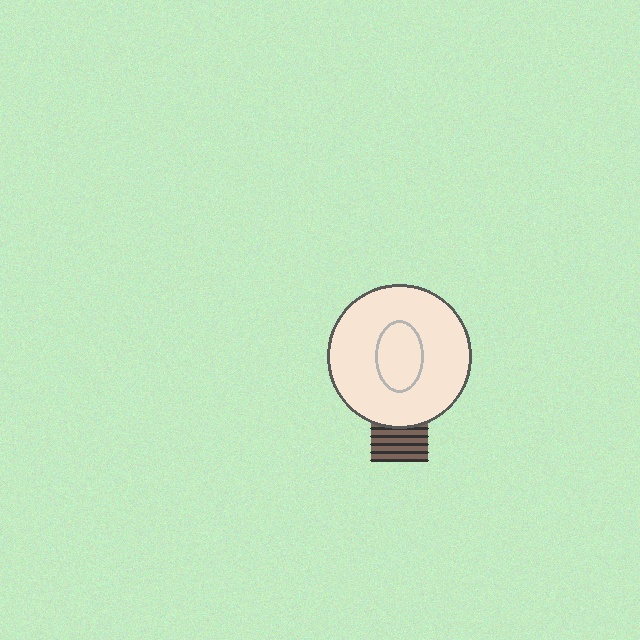bulb: (323, 280, 475, 466)
